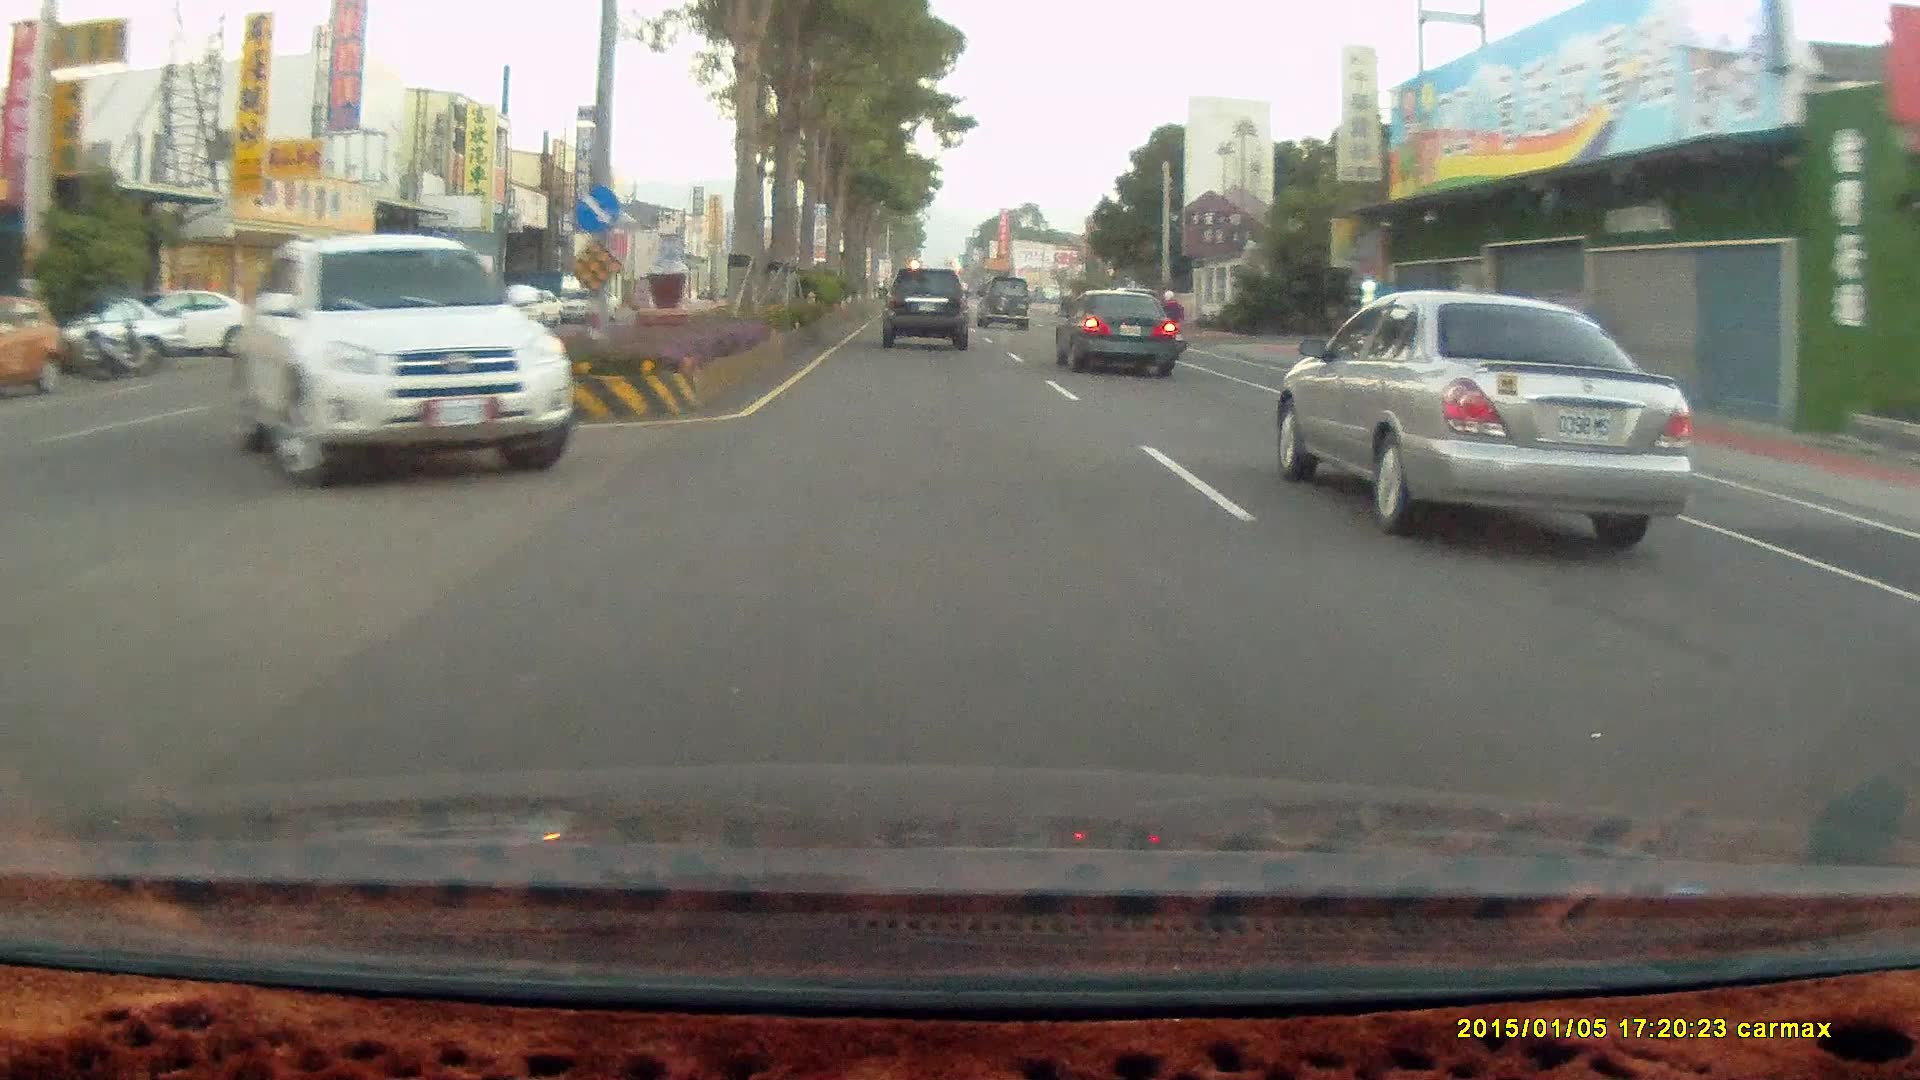rider: (1147, 286, 1188, 363)
vehicle: (1282, 288, 1697, 538), (217, 235, 582, 492), (226, 232, 575, 489), (1052, 287, 1177, 377), (1059, 299, 1185, 386), (107, 287, 263, 353), (129, 288, 265, 356), (882, 266, 976, 357), (880, 267, 970, 350), (1, 296, 67, 398), (1, 299, 68, 399), (978, 280, 1036, 338), (974, 274, 1030, 329), (510, 288, 566, 327)
